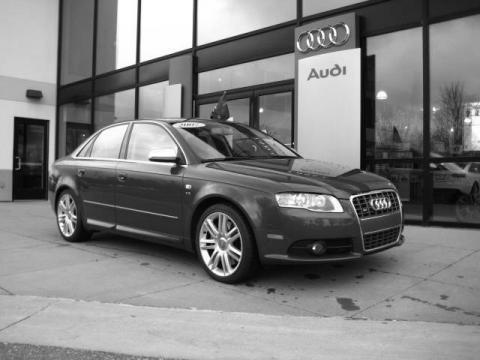car: (47, 120, 410, 283)
